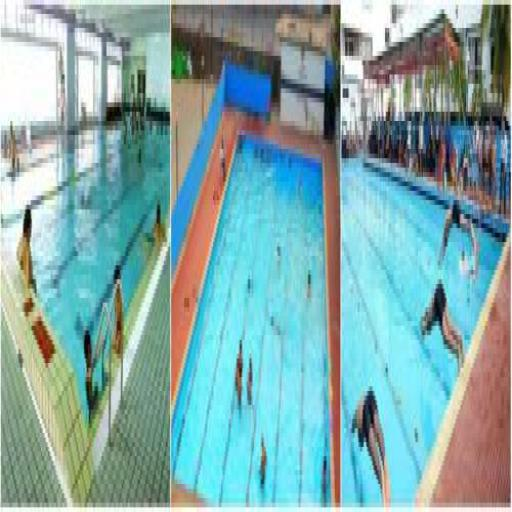swimming: (348, 382, 391, 507), (418, 274, 466, 382), (435, 186, 478, 275), (81, 317, 107, 428), (14, 195, 37, 298), (108, 256, 125, 368), (231, 330, 245, 419), (149, 191, 167, 256), (256, 424, 268, 494)
